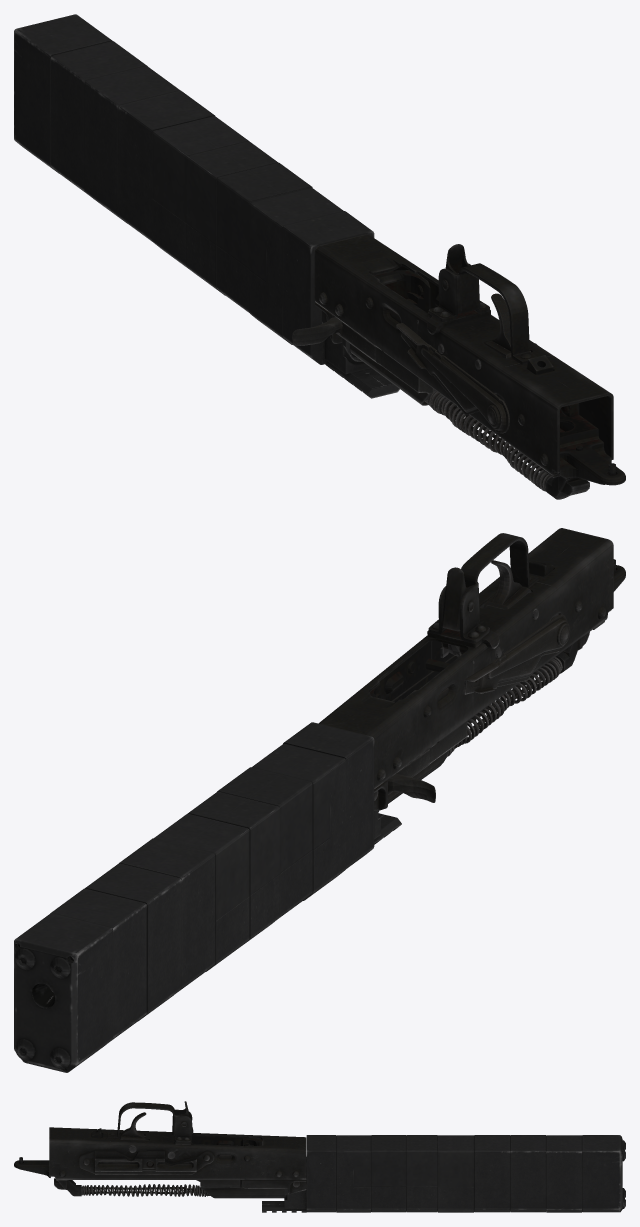
3 renders of one model, top to bottom at view 1: azimuth 30°, elevation 25°; view 2: azimuth 150°, elevation 25°; view 3: azimuth 270°, elevation 25°, orthographic. The views are drawn at different scales.
Visible parts, largest first — view 1: TW_674d6121c09f69dfb201a888_PZ_Import; view 2: TW_674d6121c09f69dfb201a888_PZ_Import; view 3: TW_674d6121c09f69dfb201a888_PZ_Import.
Boxes of the visible parts, left/top/right/bottom form: TW_674d6121c09f69dfb201a888_PZ_Import: left=14, top=14, right=625, bottom=499; TW_674d6121c09f69dfb201a888_PZ_Import: left=14, top=528, right=625, bottom=1072; TW_674d6121c09f69dfb201a888_PZ_Import: left=14, top=1101, right=625, bottom=1212.
Bounding box in the file's own units: 0.0398 × 0.3555 × 0.0691.
Materials: 1 (1 with a texture image).
